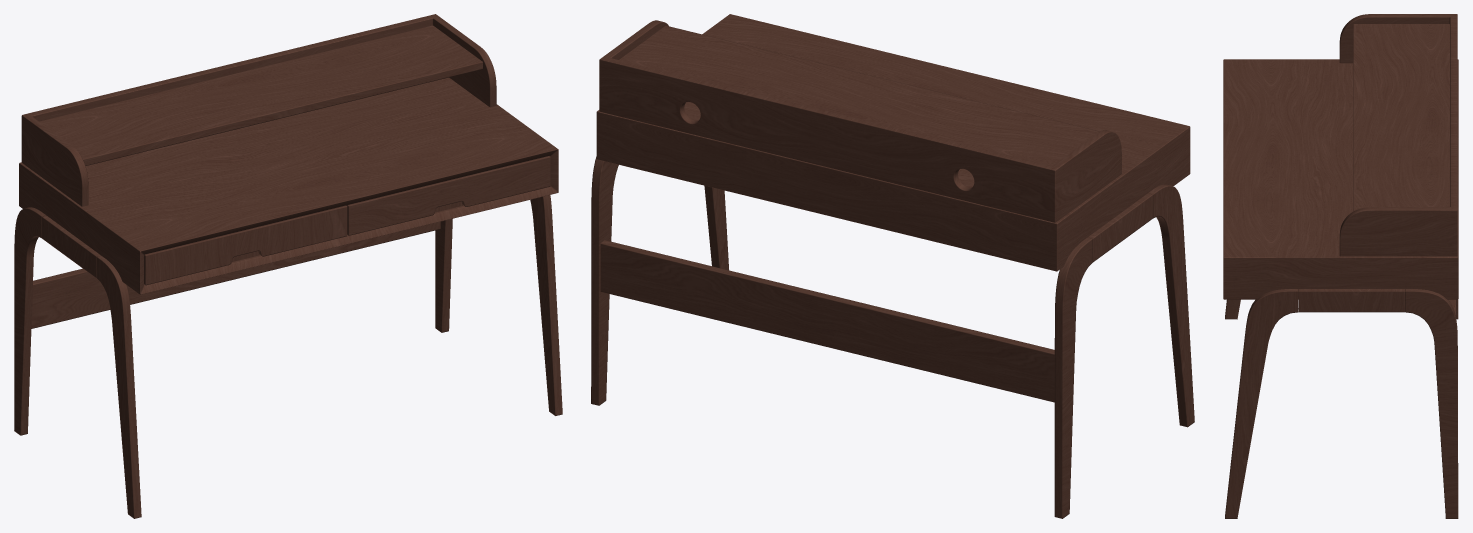
Rendered from desk97729.glb.
3 renders of one model, left to right at view 1: azimuth 30°, elevation 25°; view 2: azimuth 150°, elevation 25°; view 3: azimuth 270°, elevation 25°, orthographic. The views are drawn at different scales.
Parts seen in each view (by area): view 1: Walnut 7729; view 2: Walnut 7729; view 3: Walnut 7729.
Boxes of the visible parts, x1,y1,x2,y2 form: Walnut 7729: [14, 14, 562, 518]; Walnut 7729: [591, 14, 1194, 518]; Walnut 7729: [1223, 14, 1458, 518].
Size of the model in its own units: 1.23 by 0.8601 by 0.6.
1 material, 1 textured.
